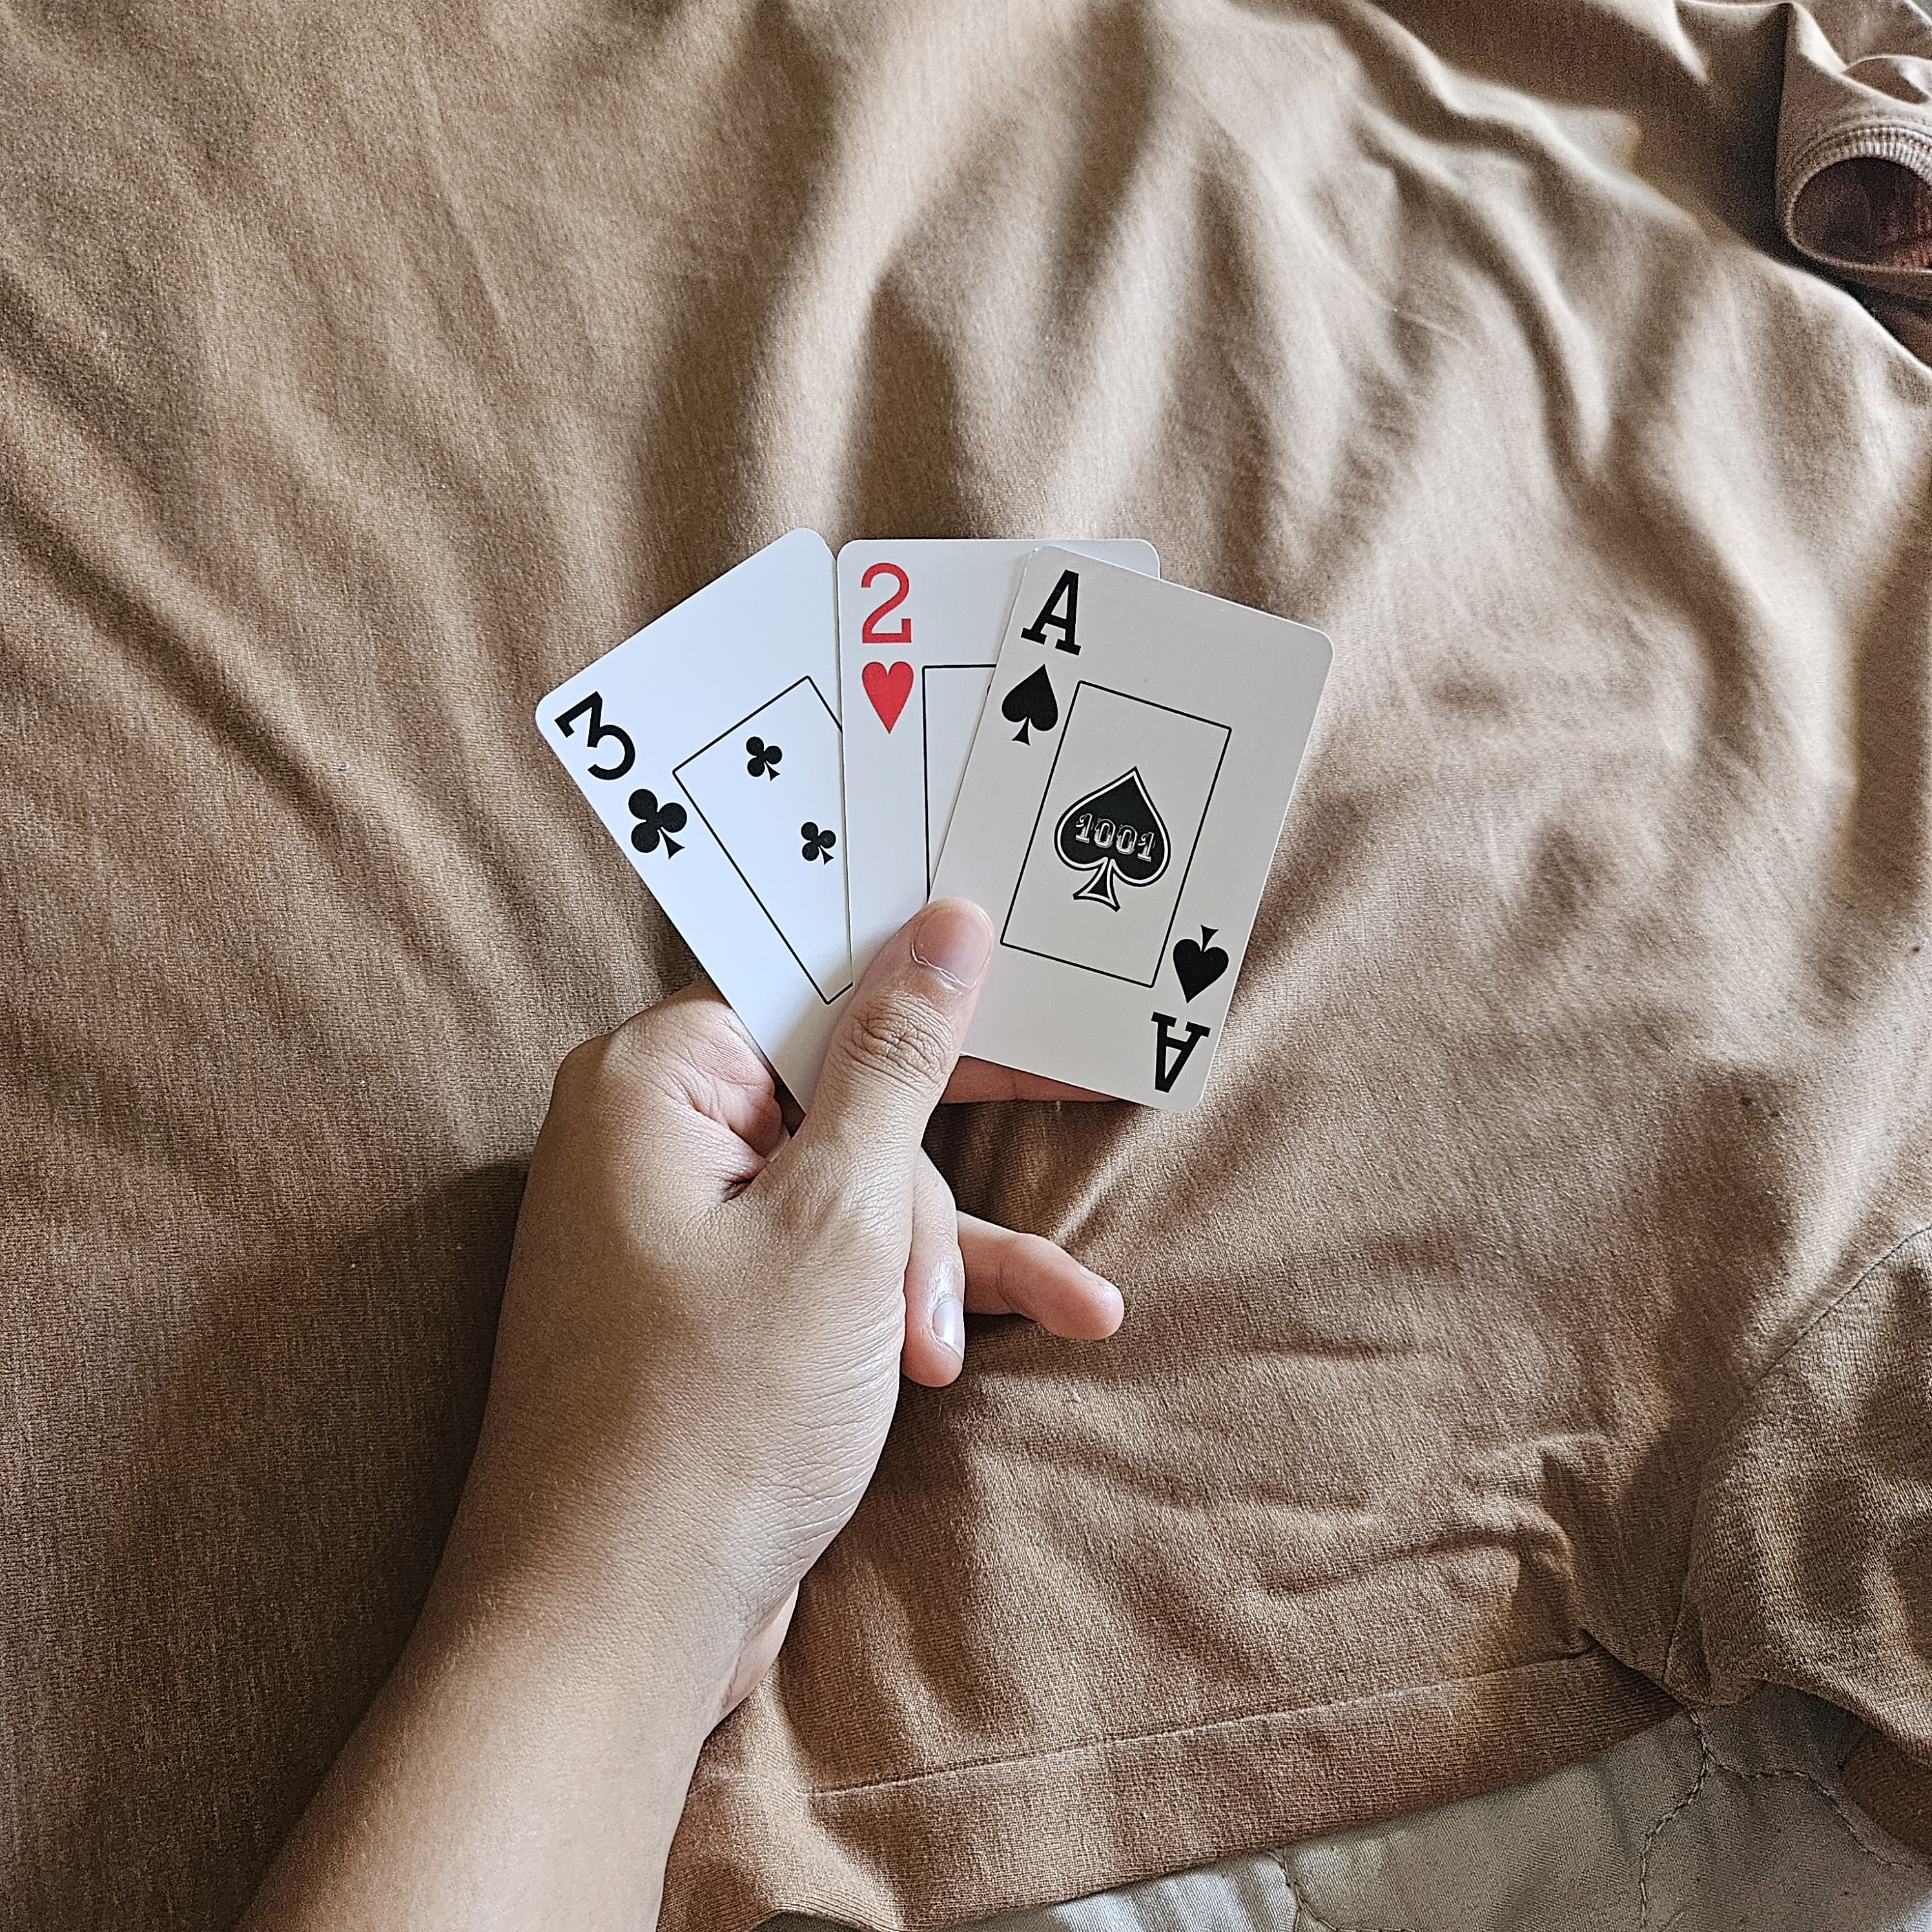2C: (835, 554, 936, 747)
3P: (541, 681, 702, 867)
AE: (984, 554, 1100, 757), (1132, 906, 1242, 1102)
